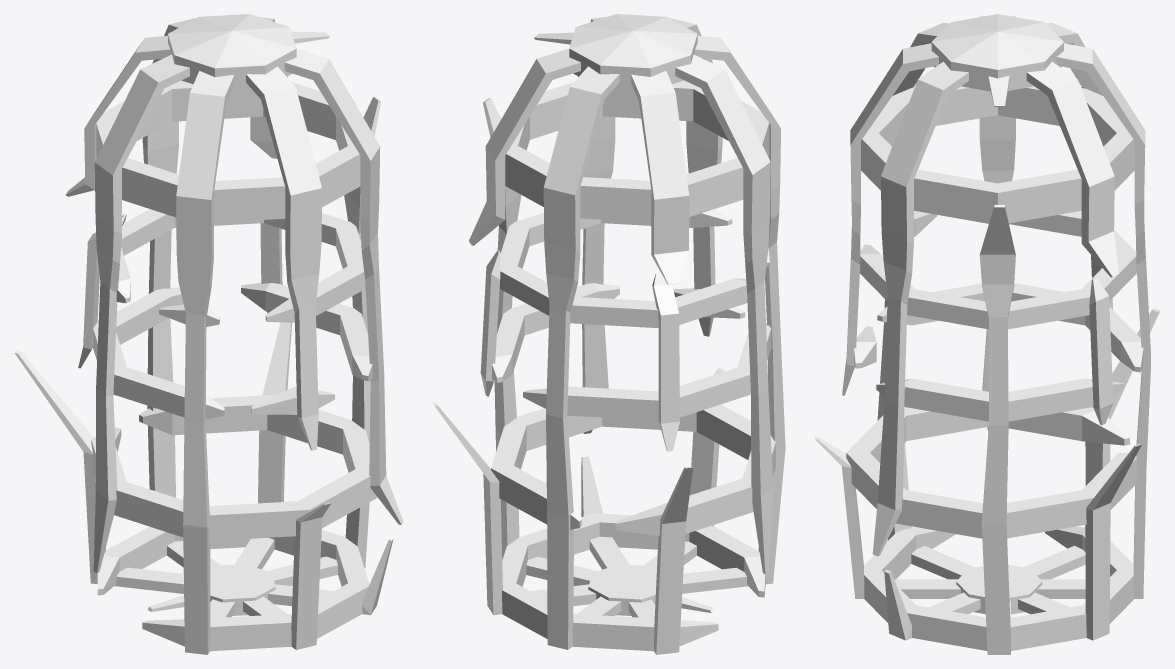
File: Cage 2.fbx
3 views of the same model, side by side, from view 1: azimuth 30°, elevation 25°; view 2: azimuth 150°, elevation 25°; view 3: azimuth 270°, elevation 25° (orthographic).
Parts seen in each view (by area): view 1: Cage 2; view 2: Cage 2; view 3: Cage 2.
Boxes of the visible parts, x1,y1,x2,y2 form: Cage 2: [14, 14, 403, 654]; Cage 2: [432, 14, 785, 654]; Cage 2: [814, 14, 1160, 654].
Bounding box in the file's own units: 393 × 747 × 414.
Materials: 1 (1 with a texture image).
